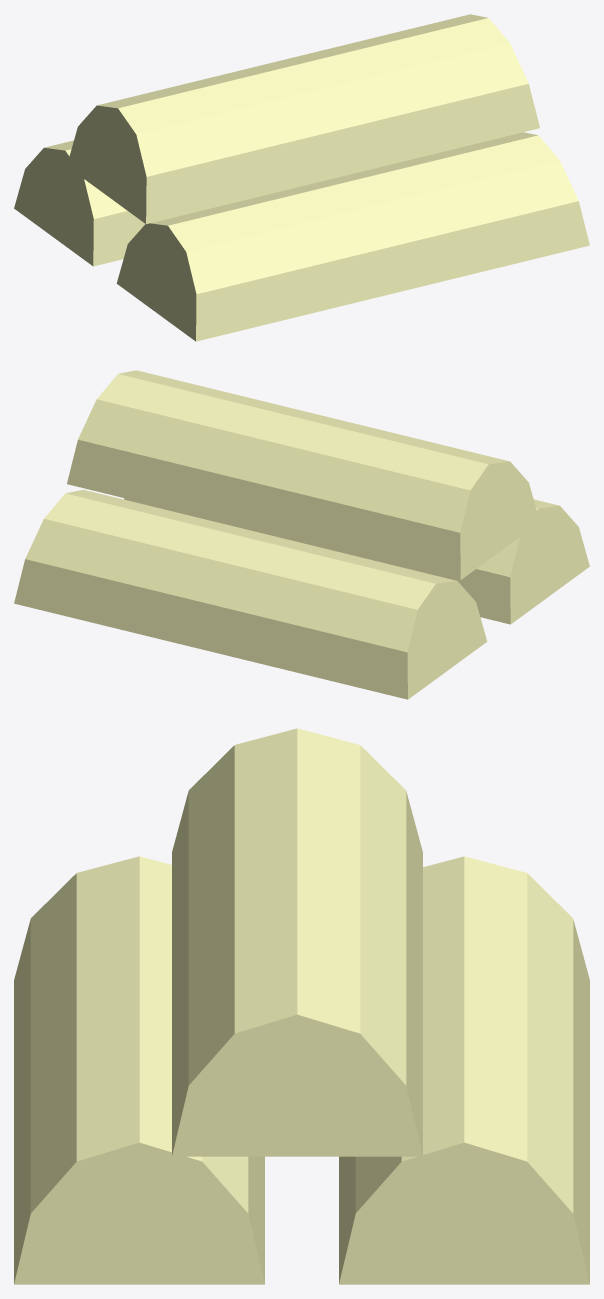
Rendered from SM_Cobalt_ingots.glb.
3 renders of one model, top to bottom at view 1: azimuth 30°, elevation 25°; view 2: azimuth 150°, elevation 25°; view 3: azimuth 270°, elevation 25°, orthographic. The views are drawn at different scales.
Parts seen in each view (by area): view 1: SM_Cobalt_ingots; view 2: SM_Cobalt_ingots; view 3: SM_Cobalt_ingots.
Boxes of the visible parts, x1=… form: SM_Cobalt_ingots: x1=14, y1=14, x2=589, y2=341; SM_Cobalt_ingots: x1=14, y1=370, x2=589, y2=699; SM_Cobalt_ingots: x1=14, y1=728, x2=589, y2=1284.
Size of the model in its own units: 0.5 by 0.2 by 0.4.
Materials: 1 (1 with a texture image).
